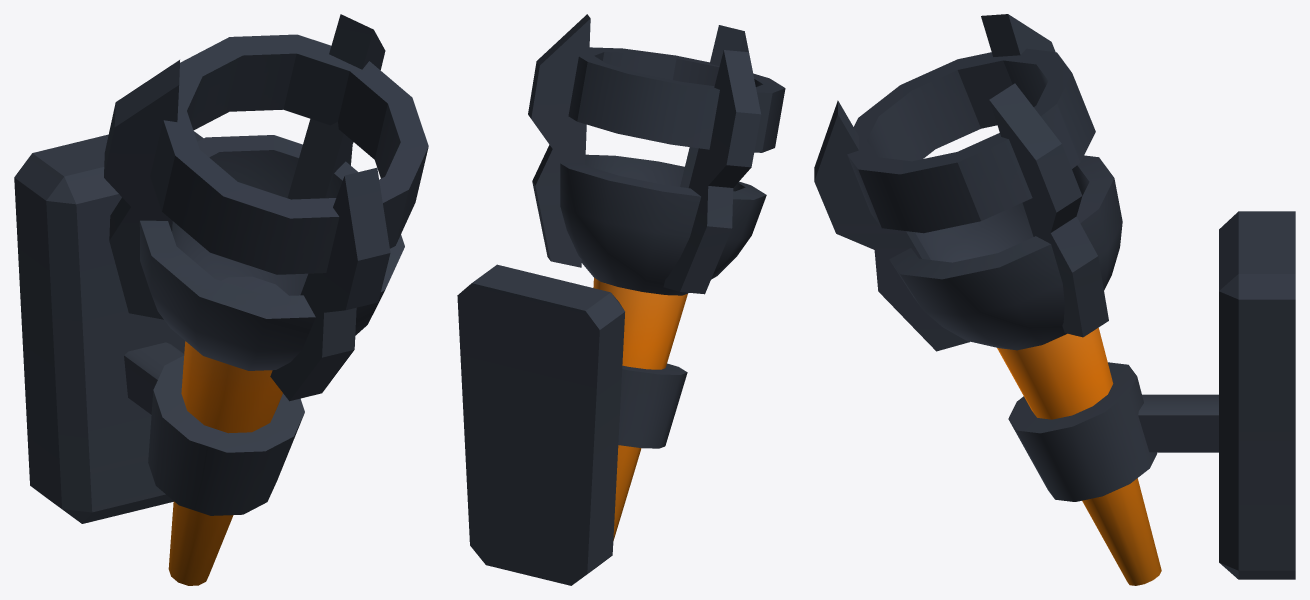
File: Tourch_01.glb
3 renders of one model, left to right at view 1: azimuth 30°, elevation 25°; view 2: azimuth 150°, elevation 25°; view 3: azimuth 270°, elevation 25°, orthographic. The views are drawn at different scales.
Visible parts, largest first — view 1: Tourch_01; view 2: Tourch_01; view 3: Tourch_01.
Part boxes in pixels (x1,y1,x2,y2): Tourch_01: [14, 14, 428, 585]; Tourch_01: [457, 14, 785, 585]; Tourch_01: [814, 14, 1295, 585].
Size of the model in its own units: 0.3015 by 0.6217 by 0.5085.
1 material, 1 textured.
